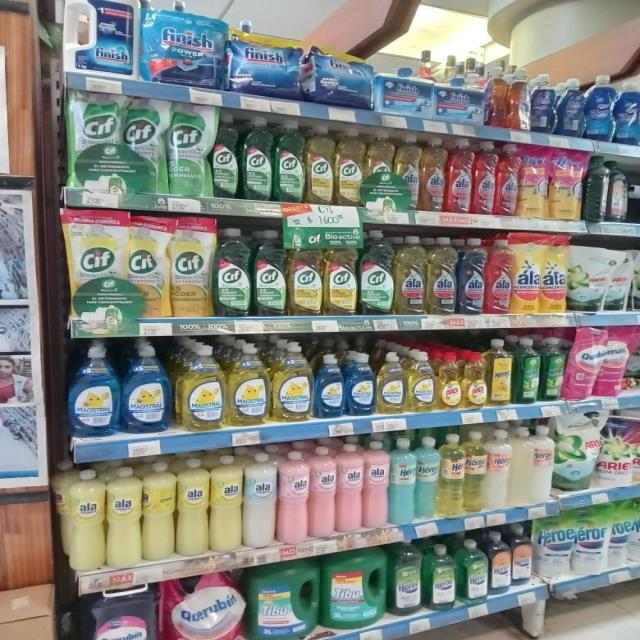ala_conc_amarillo: (395, 235, 426, 315), (427, 236, 457, 316), (394, 133, 420, 211), (420, 136, 446, 212)
ala_conc_azul: (458, 237, 486, 315)
ala_conc_rojo: (486, 237, 512, 314), (447, 137, 472, 214), (474, 140, 496, 215), (496, 142, 518, 216)
ala_crem_amarillo: (59, 468, 104, 571), (106, 466, 142, 568), (176, 457, 208, 557), (210, 453, 242, 552)
ala_crem_blanco: (243, 451, 276, 548)
ala_crem_rosado: (278, 449, 309, 544), (310, 444, 336, 538), (337, 442, 363, 533), (364, 439, 388, 530)
ala_sachet_amarillo: (541, 234, 568, 314), (514, 232, 540, 314)
cif_conc_bot_amarilla: (288, 232, 323, 317), (324, 234, 358, 316), (365, 129, 393, 211), (306, 124, 334, 205), (335, 126, 363, 206)
cif_conc_botella_verde: (214, 227, 251, 318), (253, 229, 287, 317), (359, 230, 393, 316), (242, 116, 272, 200), (274, 119, 304, 203), (212, 114, 240, 199)
cif_conc_sachet_amarillo: (67, 209, 127, 327), (170, 216, 212, 319), (128, 214, 168, 320)
cif_conc_sachet_verde: (123, 97, 166, 195), (168, 102, 210, 197)
drive: (550, 147, 582, 220)
heroe: (390, 437, 415, 526), (439, 433, 464, 518), (486, 428, 511, 510), (416, 436, 438, 521), (464, 430, 486, 514), (532, 424, 554, 504)
magistral_con_amarillo: (177, 342, 226, 432), (228, 342, 269, 427), (272, 342, 312, 422), (377, 351, 406, 415), (408, 350, 436, 412)
magistral_con_azul: (68, 343, 119, 438), (122, 342, 172, 434), (315, 352, 344, 418), (346, 352, 375, 416)
odex: (462, 350, 487, 409), (437, 352, 461, 411)
